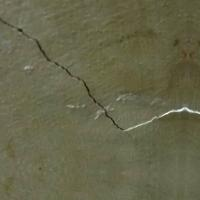crack: (0, 10, 199, 153)
